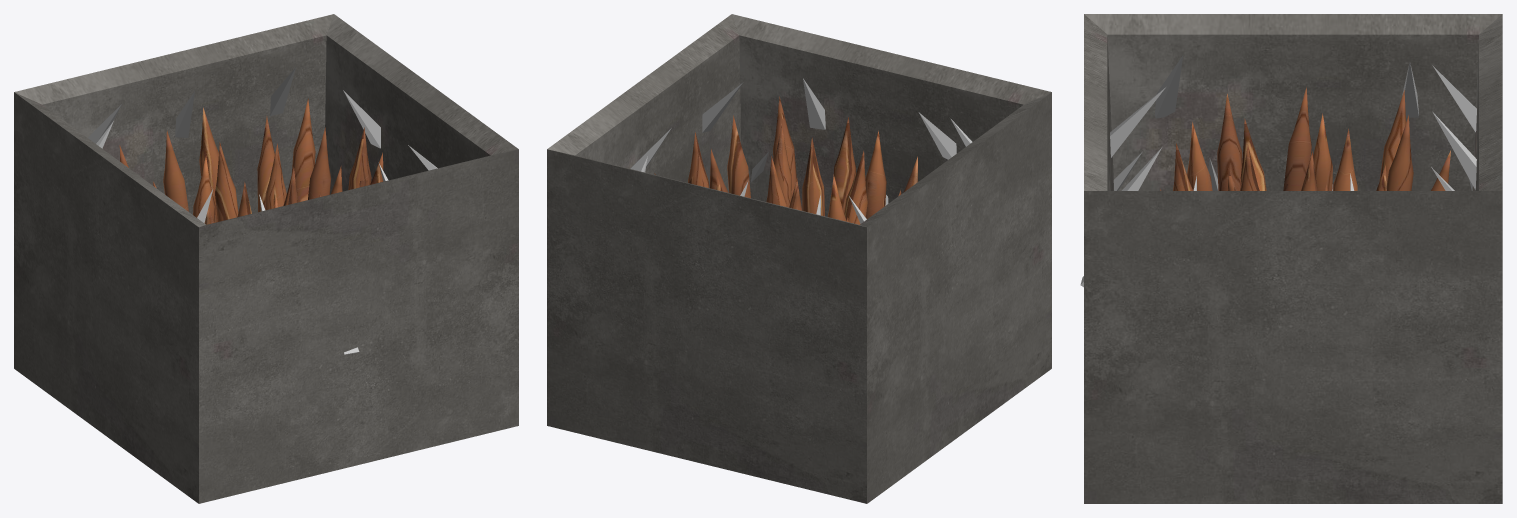
File: Trap_4.fbx
The picture shows the model from 3 angles, left to right: view 1: azimuth 30°, elevation 25°; view 2: azimuth 150°, elevation 25°; view 3: azimuth 270°, elevation 25°; orthographic projection. The views are drawn at different scales.
Parts seen in each view (by area): view 1: Object009, Object010, Object008; view 2: Object009, Object010, Object008; view 3: Object009, Object010, Object008.
Part boxes in pixels (<box>): Object009: <box>14,14,518,503</box>; Object010: <box>119,98,383,224</box>; Object008: <box>88,67,437,354</box>; Object009: <box>547,14,1051,503</box>; Object010: <box>654,96,918,224</box>; Object008: <box>630,78,972,223</box>; Object009: <box>1084,14,1502,503</box>; Object010: <box>1160,87,1450,190</box>; Object008: <box>1080,55,1476,287</box>.
Size of the model in its own units: 46.59 by 38.47 by 46.99.
